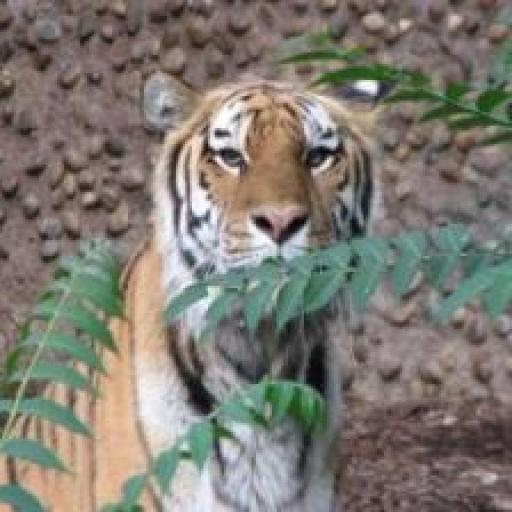Tiger: (2, 61, 409, 512)
